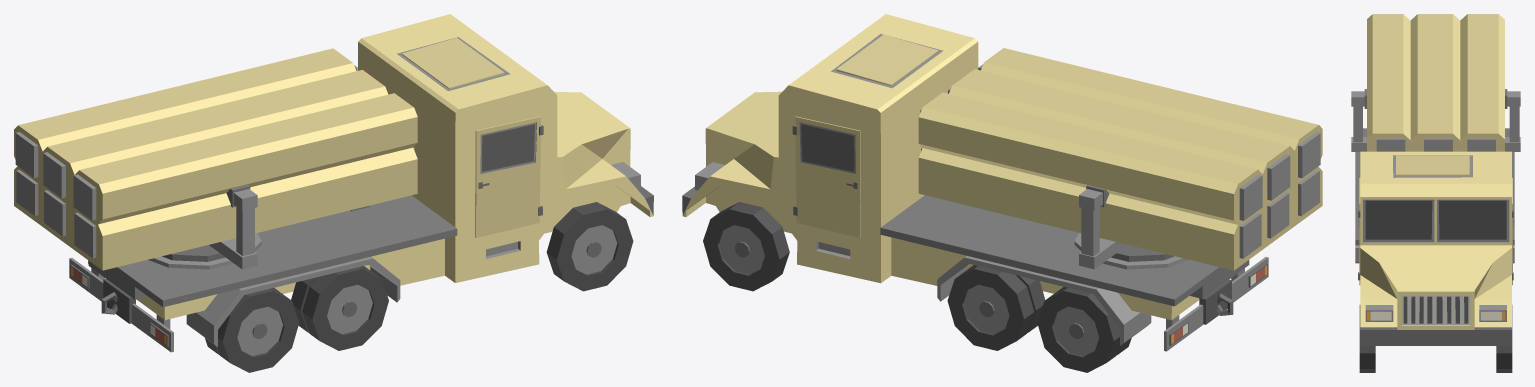
The model's file is kar10.fbx.
3 renders of one model, left to right at view 1: azimuth 30°, elevation 25°; view 2: azimuth 150°, elevation 25°; view 3: azimuth 270°, elevation 25°, orthographic. The views are drawn at different scales.
Parts seen in each view (by area): view 1: Boole_4, Boole_11, Cylinder_11, Cylinder_3, Cylinder_2, Cube_4; view 2: Boole_4, Boole_11, Cylinder_5, Cylinder_6, Cylinder_1, Cube_4; view 3: Boole_4, Boole_11, Cube_4, Cylinder_3, Cylinder_6.
Boxes of the visible parts, <box> form: Boole_4: <box>69,14,653,352</box>; Boole_11: <box>14,48,417,270</box>; Cylinder_11: <box>291,266,388,350</box>; Cylinder_3: <box>546,202,633,291</box>; Cylinder_2: <box>205,288,299,372</box>; Cube_4: <box>209,184,257,269</box>; Boole_4: <box>682,14,1268,351</box>; Boole_11: <box>918,48,1322,270</box>; Cylinder_5: <box>947,265,1045,350</box>; Cylinder_6: <box>703,202,789,291</box>; Cylinder_1: <box>1037,287,1131,372</box>; Cube_4: <box>1079,185,1127,269</box>; Boole_4: <box>1355,128,1514,345</box>; Boole_11: <box>1367,14,1504,151</box>; Cube_4: <box>1351,89,1520,151</box>; Cylinder_3: <box>1359,305,1375,372</box>; Cylinder_6: <box>1496,305,1512,372</box>.
Bounding box in the file's own units: 720 × 271 × 246.
